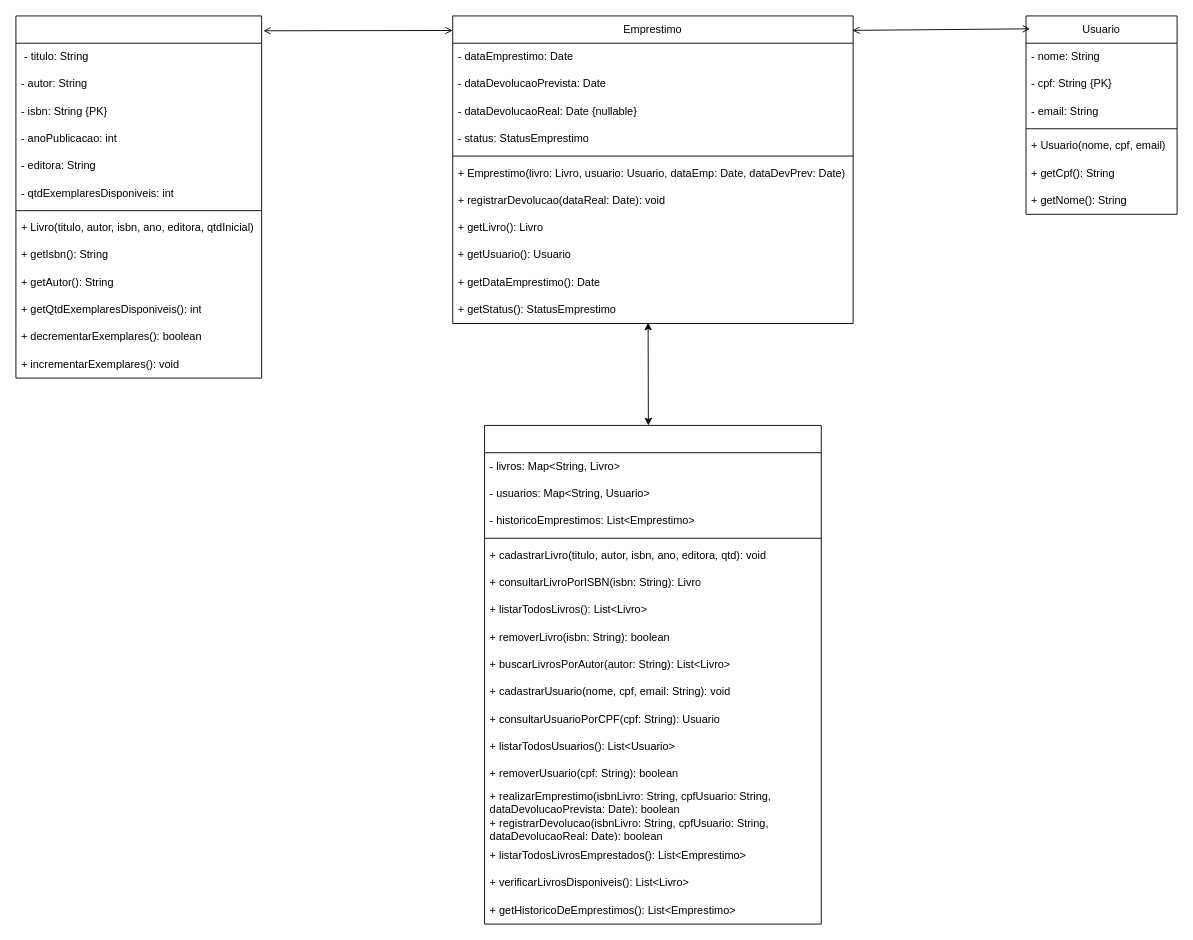
The diagram is 1193 pixels wide and 940 high, and some of its shapes have lost their labels. Each missing label, with the box of its shape:
Livros: (15, 15, 262, 378)
SistemaBiblioteca: (484, 425, 821, 924)
